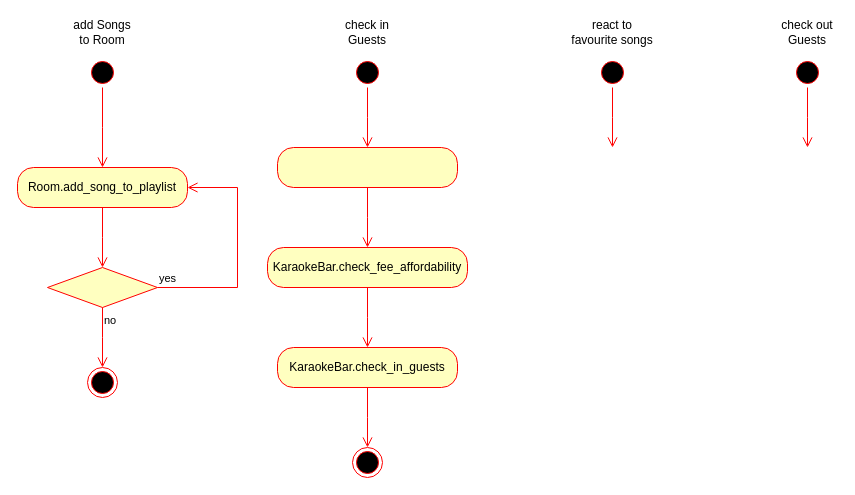
The diagram is 855 pixels wide and 495 high, and some of its shapes have lost their labels. Each missing label, with the centre of its shape:
"KaraokeBar.find_empty_room" belongs at [367,167].
"more songs?" belongs at [102,287].
